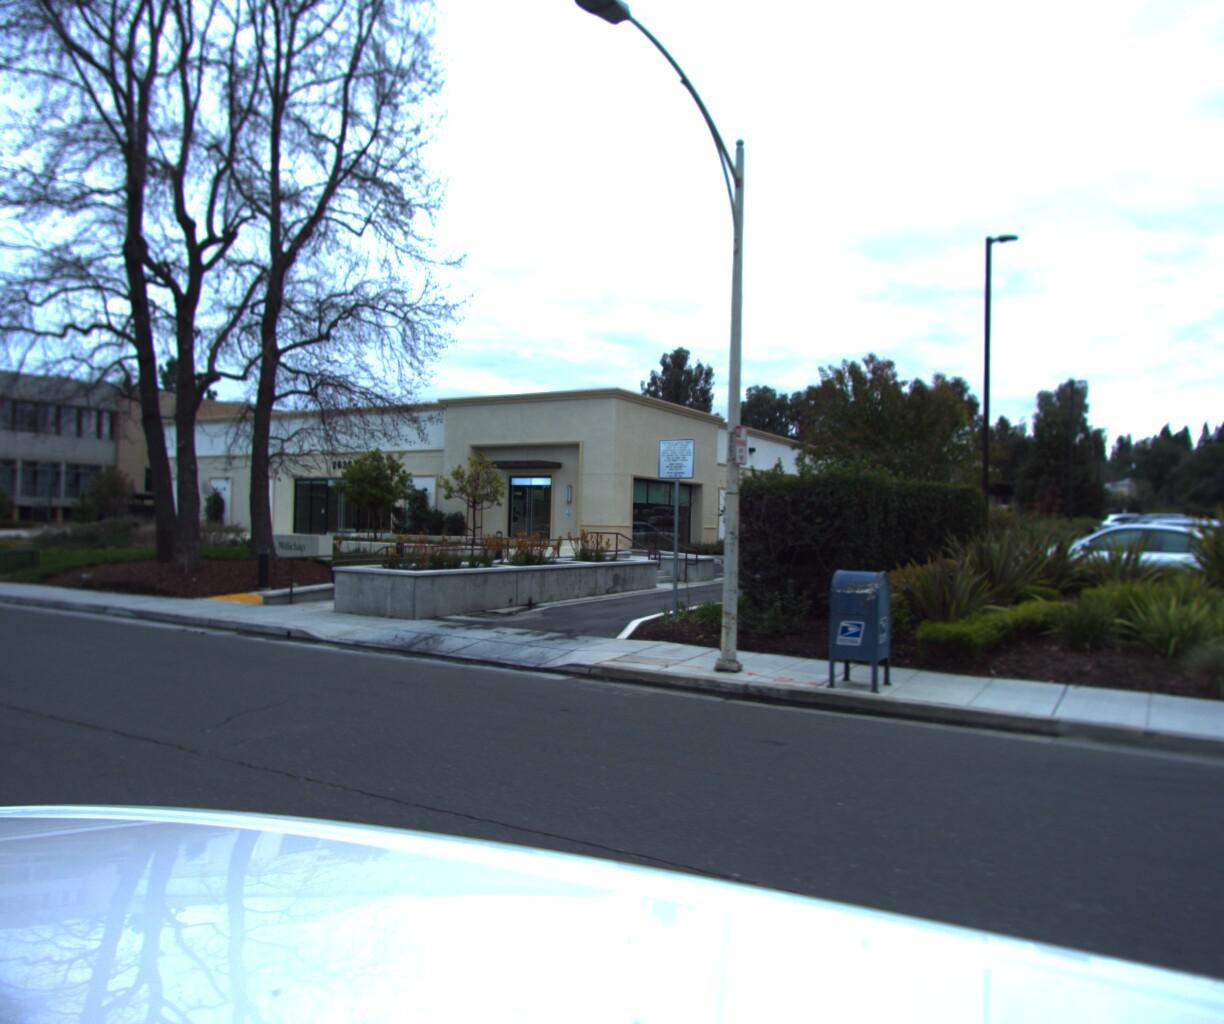car: (988, 516, 1224, 615)
